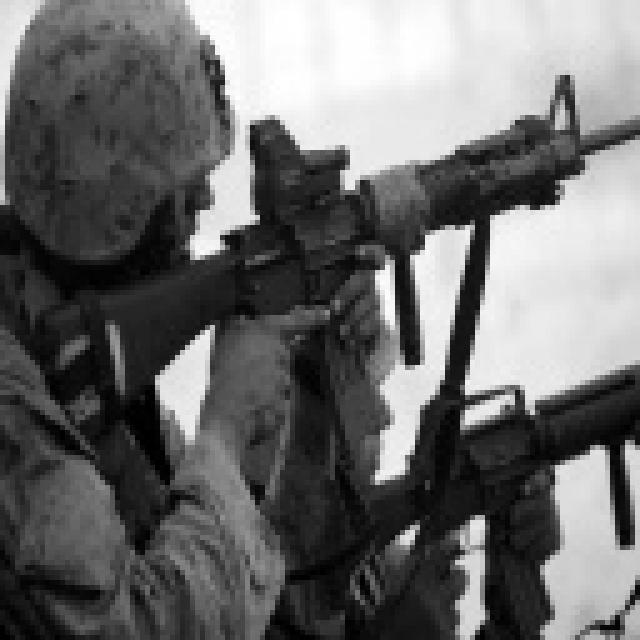Rifle: (62, 56, 640, 441), (290, 315, 636, 640)
